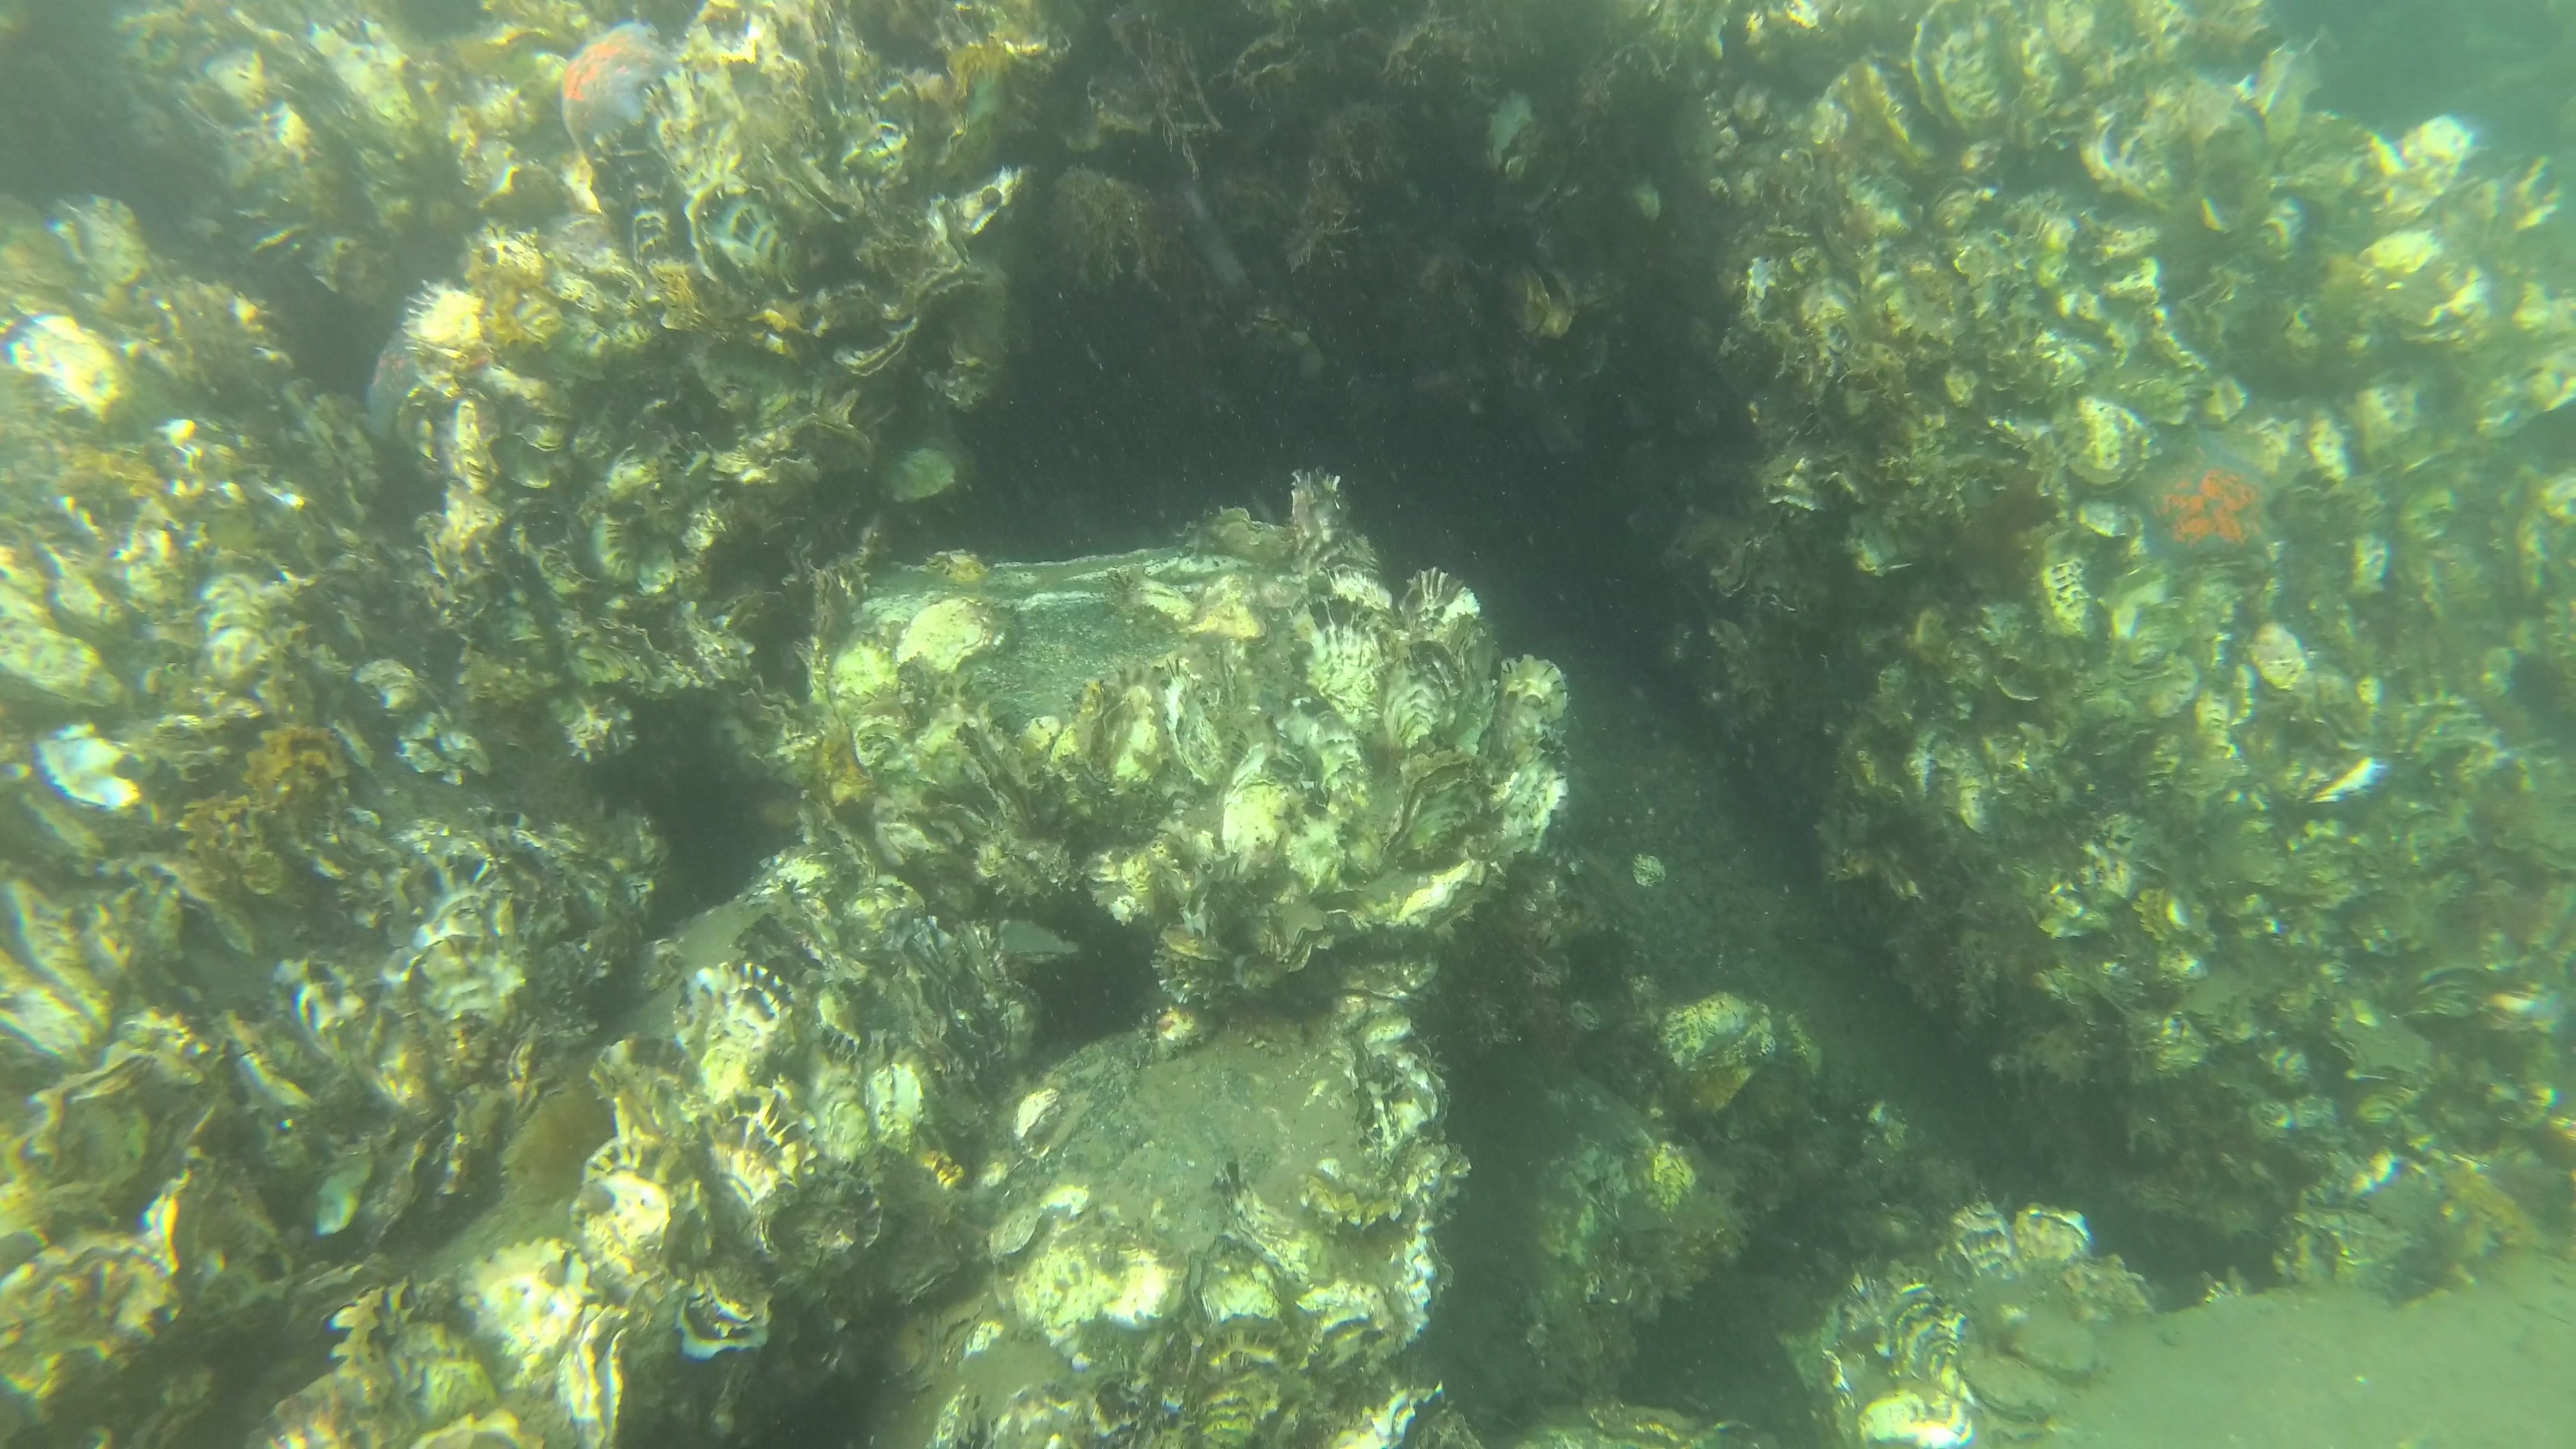echinus: (1039, 936, 1143, 1044), (1564, 925, 1633, 1000)
starfish: (2135, 435, 2281, 570), (559, 23, 674, 154), (361, 327, 418, 437)
